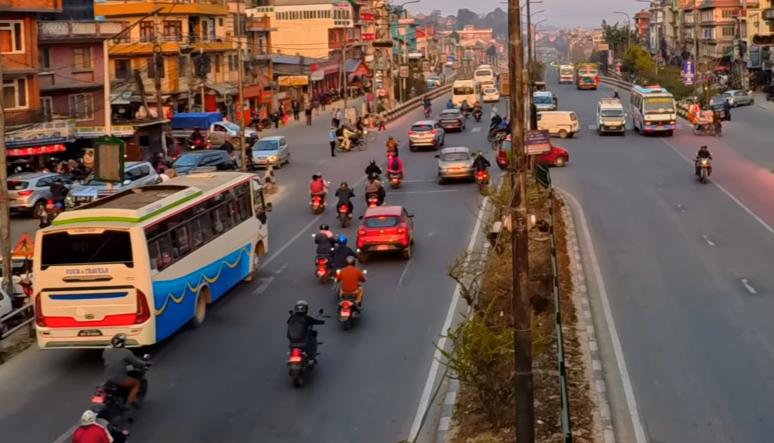bus: (30, 166, 277, 356), (629, 83, 679, 142)
car: (353, 204, 417, 260), (249, 134, 291, 173), (433, 147, 476, 182), (406, 119, 446, 151), (437, 110, 469, 134)
transport_vehicle: (169, 111, 258, 149)
truck: (572, 61, 600, 92)
van: (534, 108, 583, 141)
